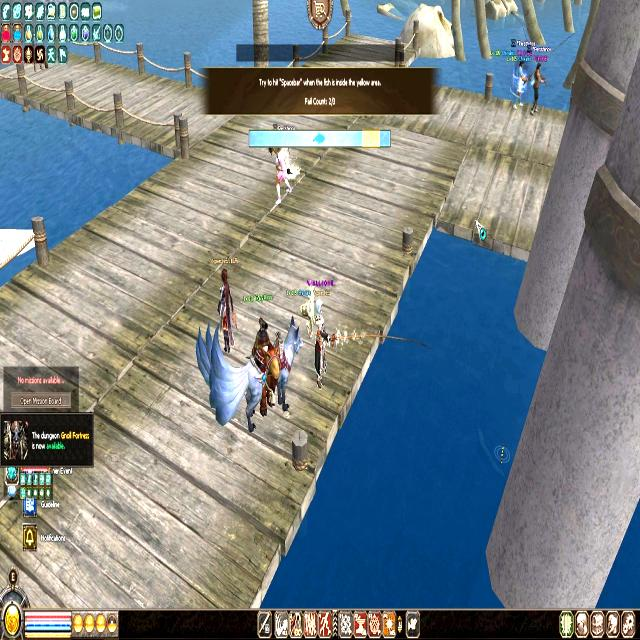box: (362, 130, 381, 146)
fishes: (312, 132, 326, 144)
